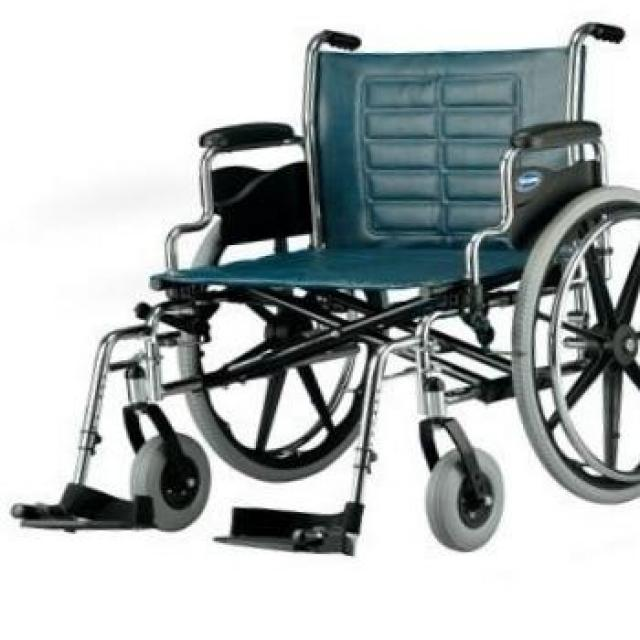wheelchair: (2, 16, 640, 567)
